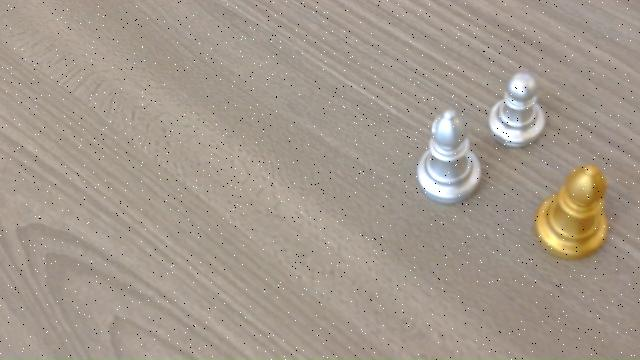black_bishop: (535, 163, 612, 260)
white_bishop: (416, 108, 482, 204)
white_pawn: (489, 72, 545, 148)
